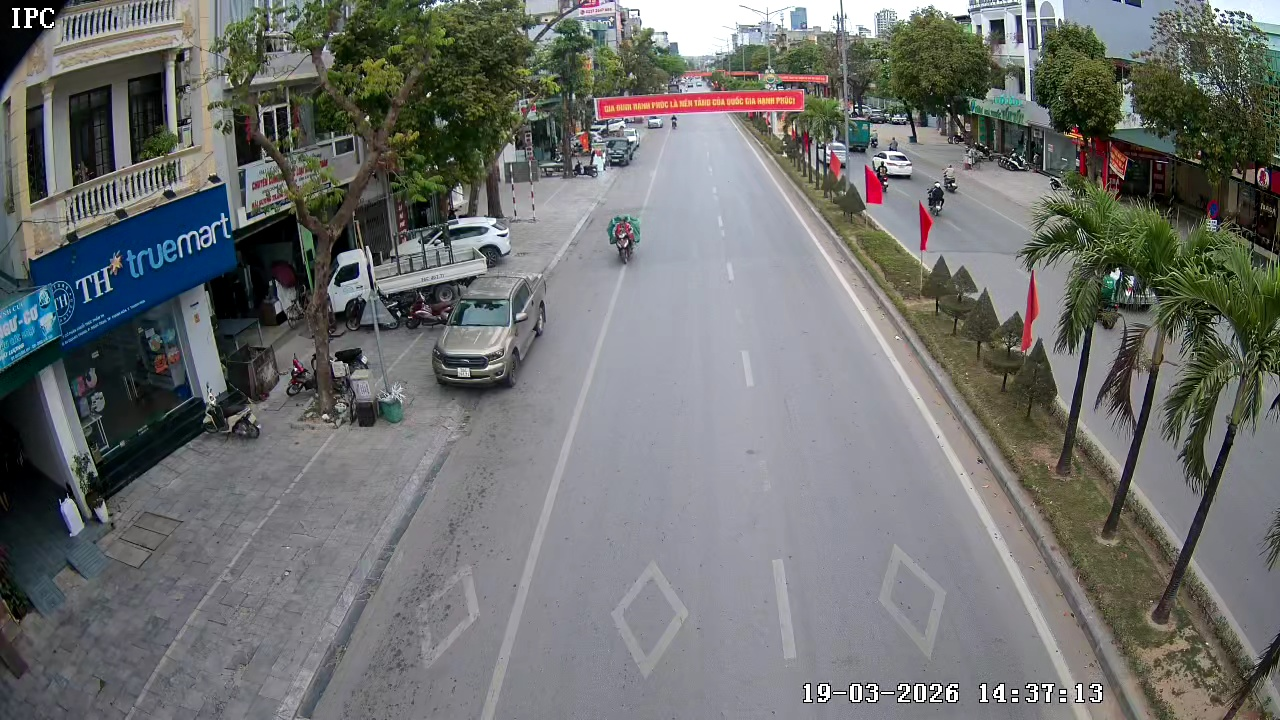car: (430, 272, 546, 387), (873, 147, 914, 179)
motorbike: (609, 209, 639, 265), (923, 175, 947, 218)
